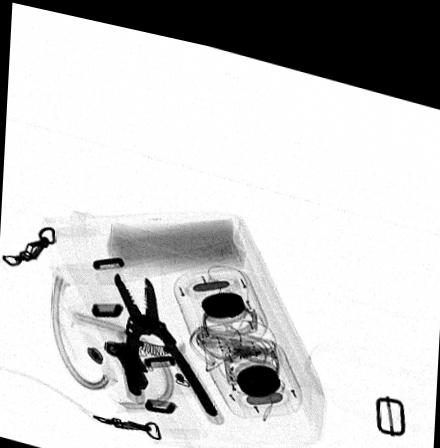Pliers: (114, 265, 218, 404)
